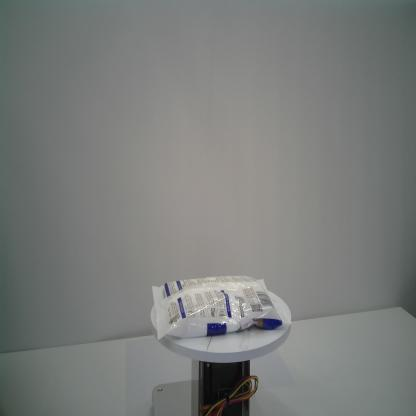Seasoner: (151, 276, 294, 342)
